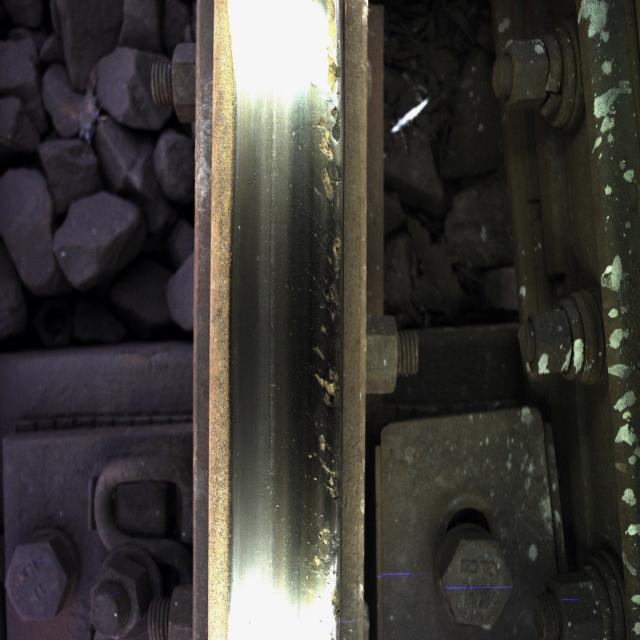crack: (285, 27, 347, 595)
